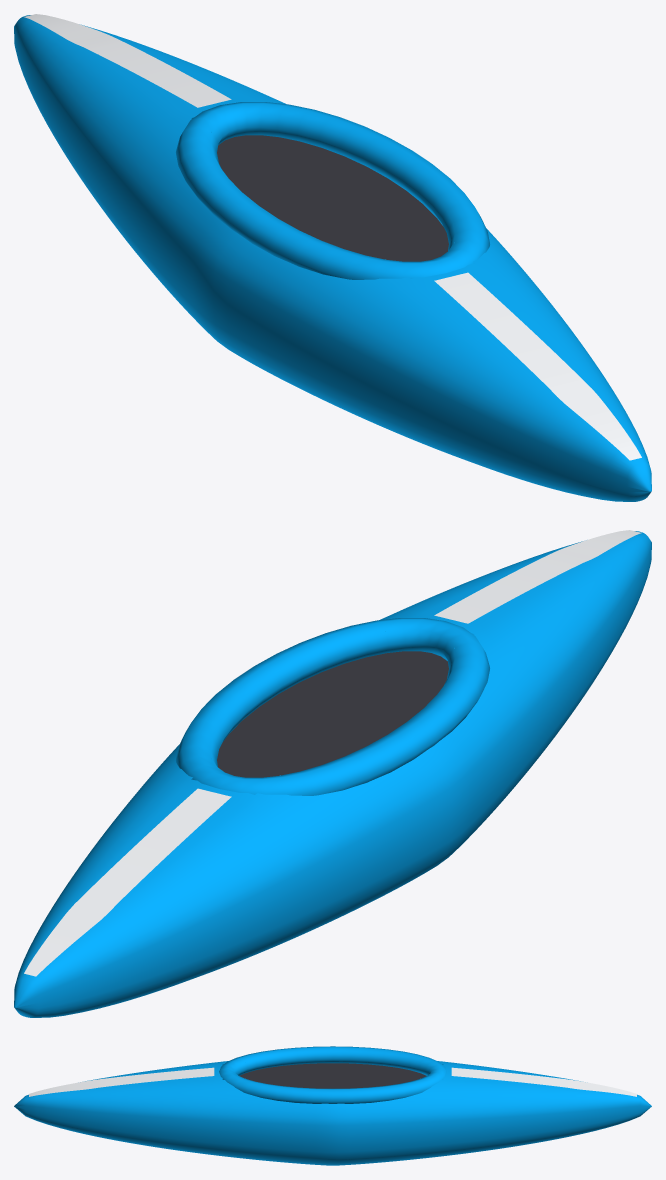
The model's file is Kayak_Racer.glb.
3 views of the same model, one above another, from view 1: azimuth 30°, elevation 25°; view 2: azimuth 150°, elevation 25°; view 3: azimuth 270°, elevation 25° (orthographic). The views are drawn at different scales.
Visible parts, largest first — view 1: Kayak_Racer, Kayak_Racer_Cockpit, Kayak_Racer_Accents; view 2: Kayak_Racer, Kayak_Racer_Cockpit, Kayak_Racer_Accents; view 3: Kayak_Racer, Kayak_Racer_Cockpit, Kayak_Racer_Accents.
Part boxes in pixels (box(x1,y1,x2,y2)): Kayak_Racer: box(14, 15, 651, 501); Kayak_Racer_Cockpit: box(217, 135, 448, 261); Kayak_Racer_Accents: box(24, 14, 641, 460); Kayak_Racer: box(14, 531, 651, 1017); Kayak_Racer_Cockpit: box(217, 651, 448, 777); Kayak_Racer_Accents: box(24, 530, 641, 976); Kayak_Racer: box(14, 1046, 651, 1165); Kayak_Racer_Cockpit: box(239, 1063, 426, 1088); Kayak_Racer_Accents: box(29, 1067, 636, 1096).
Bounding box in the file's own units: 2.39 × 1.48 × 10.5.
